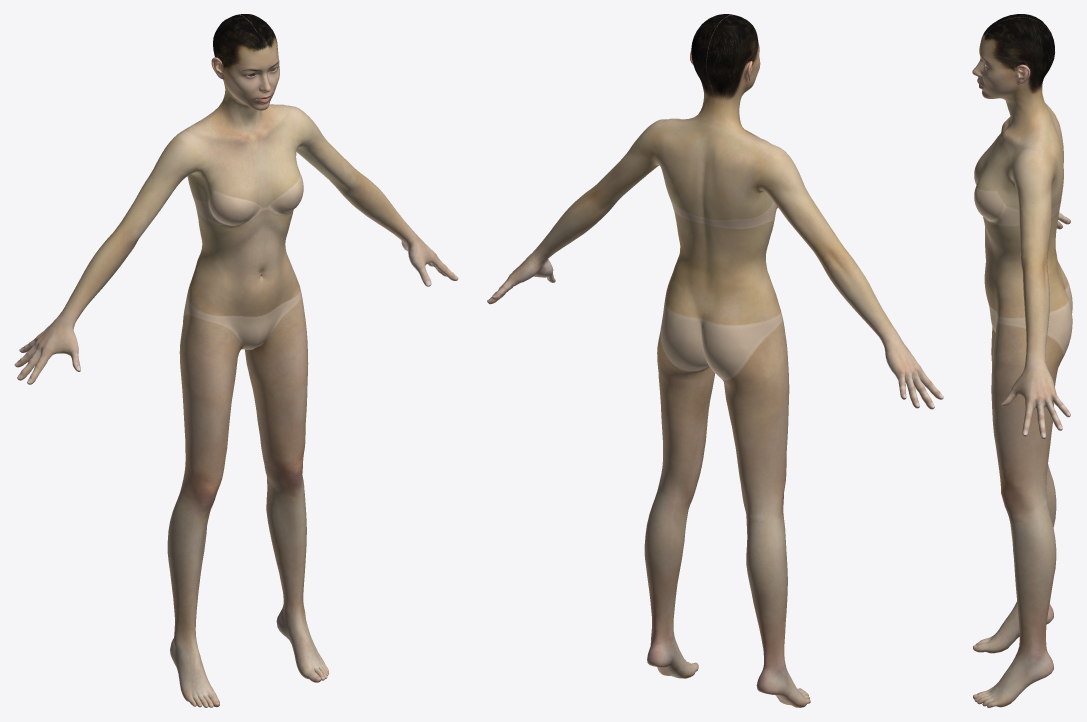
The model's file is women-body.gltf.
3 views of the same model, side by side, from view 1: azimuth 30°, elevation 25°; view 2: azimuth 150°, elevation 25°; view 3: azimuth 270°, elevation 25° (orthographic). The views are drawn at different scales.
Visible parts, largest first — view 1: women-body; view 2: women-body; view 3: women-body.
Part boxes in pixels (<box>): women-body: <box>14,14,458,707</box>; women-body: <box>487,14,943,707</box>; women-body: <box>972,14,1072,707</box>.
Size of the model in its own units: 127 by 186 by 25.59.
3 materials, 3 textured.
